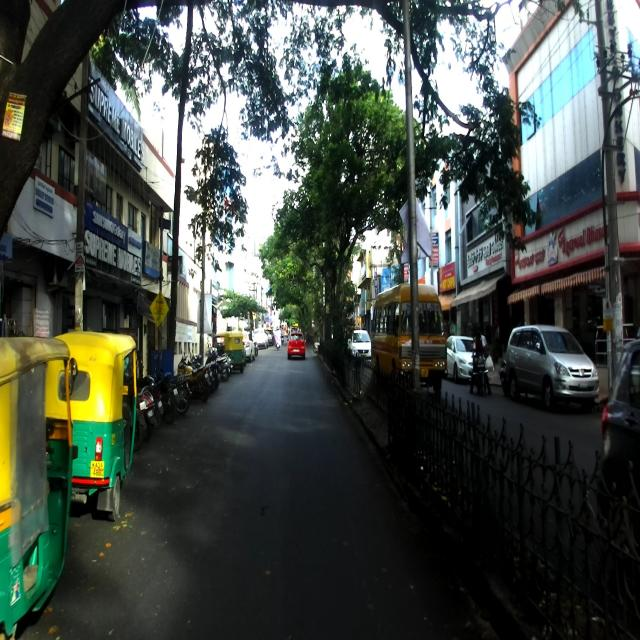autorickshaw: (0, 336, 77, 638), (55, 332, 135, 520)
car: (506, 324, 600, 413)
